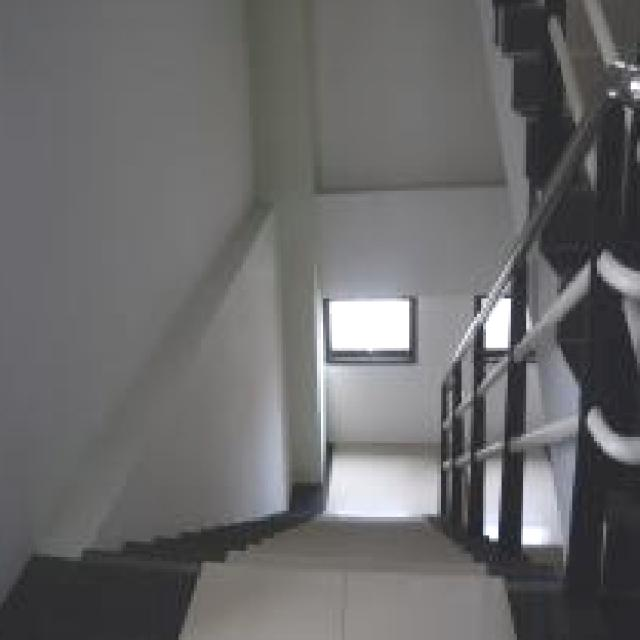downstair: (189, 539, 478, 640)
